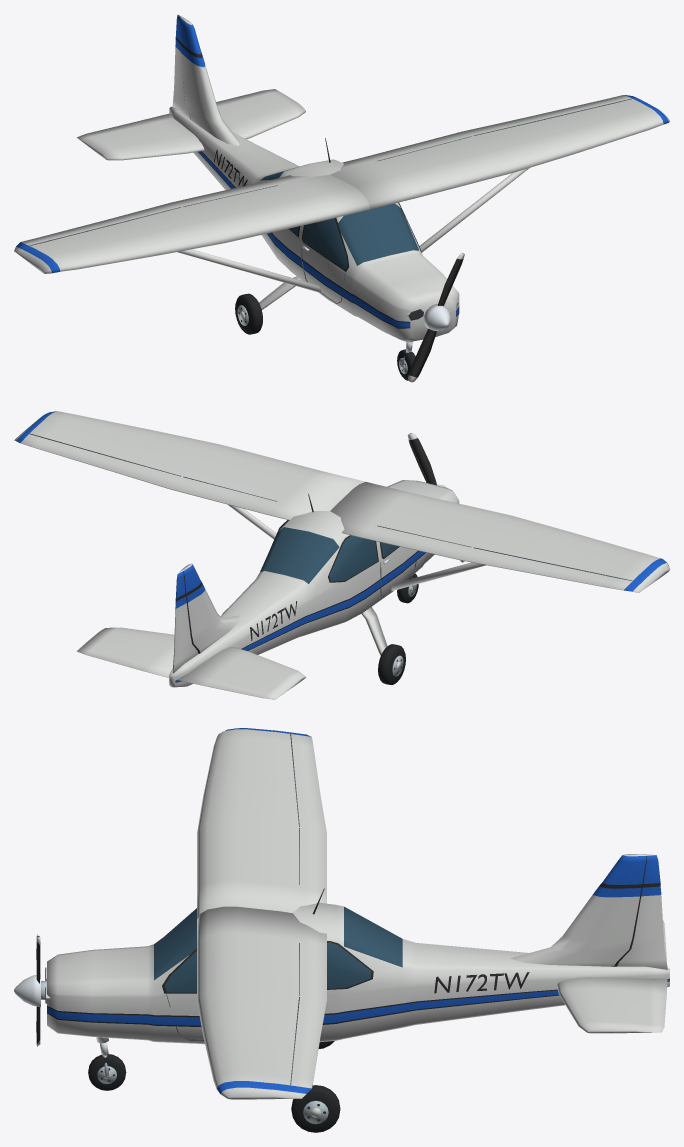
Rendered from cessna_172.glb.
The picture shows the model from 3 angles, top to bottom: view 1: azimuth 30°, elevation 25°; view 2: azimuth 150°, elevation 25°; view 3: azimuth 270°, elevation 25°; orthographic projection. The views are drawn at different scales.
Parts seen in each view (by area): view 1: Airframe, Propeller, Left main wheel; view 2: Airframe, Left main wheel, Propeller; view 3: Airframe, Right main wheel, Nose wheel, Propeller.
Part boxes in pixels (x1=…): Airframe: x1=14, y1=14, x2=669, y2=366; Propeller: x1=407, y1=253, x2=464, y2=382; Left main wheel: x1=235, y1=293, x2=262, y2=334; Airframe: x1=14, y1=411, x2=669, y2=699; Left main wheel: x1=378, y1=644, x2=405, y2=684; Propeller: x1=407, y1=433, x2=464, y2=562; Airframe: x1=41, y1=728, x2=669, y2=1099; Right main wheel: x1=291, y1=1085, x2=340, y2=1132; Nose wheel: x1=88, y1=1054, x2=126, y2=1090; Propeller: x1=14, y1=934, x2=40, y2=1046.
Size of the model in its own units: 11.02 by 3.31 by 8.39.
